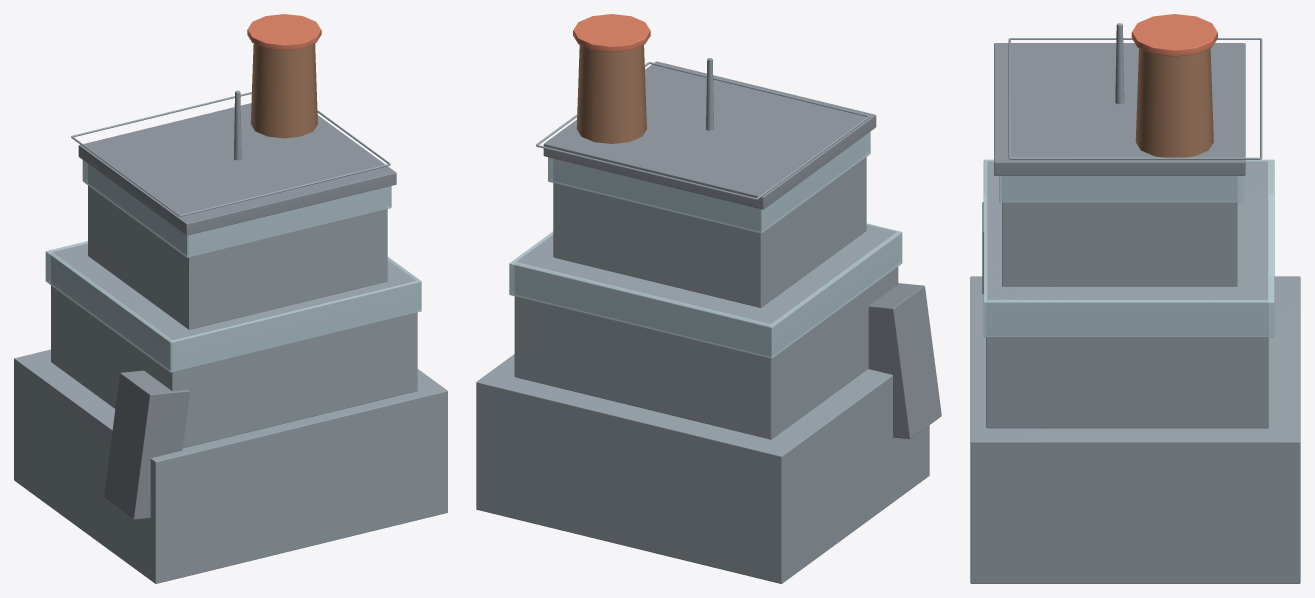
File: bridge_superstructure.glb
The picture shows the model from 3 angles, left to right: view 1: azimuth 30°, elevation 25°; view 2: azimuth 150°, elevation 25°; view 3: azimuth 270°, elevation 25°; orthographic projection. The views are drawn at different scales.
Visible parts, largest first — view 1: bridge_superstructure; view 2: bridge_superstructure; view 3: bridge_superstructure.
Boxes of the visible parts, <box> form: bridge_superstructure: <box>14,14,447,583</box>; bridge_superstructure: <box>476,14,941,583</box>; bridge_superstructure: <box>970,14,1300,583</box>.
Bounding box in the file's own units: 5.28 × 7.15 × 4.2.
